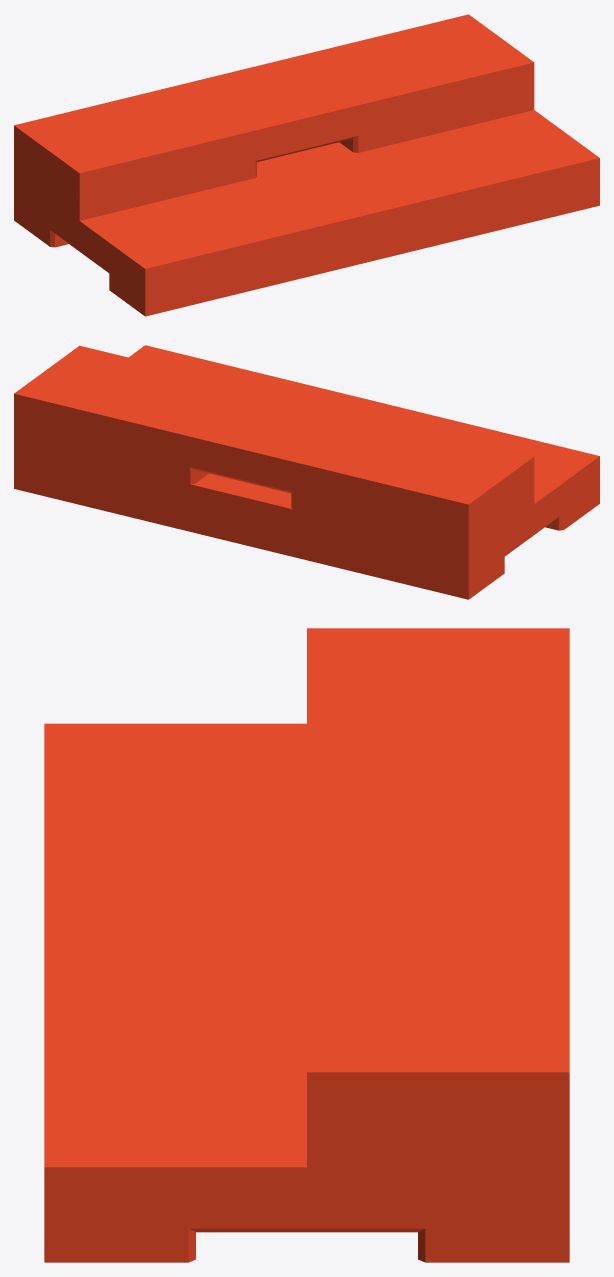
The model's file is SM_Skate_Ollie_City.fbx.
3 renders of one model, top to bottom at view 1: azimuth 30°, elevation 25°; view 2: azimuth 150°, elevation 25°; view 3: azimuth 270°, elevation 25°, orthographic. The views are drawn at different scales.
Visible parts, largest first — view 1: SM_Skate_Ollie_City; view 2: SM_Skate_Ollie_City; view 3: SM_Skate_Ollie_City.
Part boxes in pixels (x1,y1,x2,y2): SM_Skate_Ollie_City: (14,14,599,316); SM_Skate_Ollie_City: (14,345,599,599); SM_Skate_Ollie_City: (44,628,569,1262).
Bounding box in the file's own units: 2 × 0.4 × 1.
